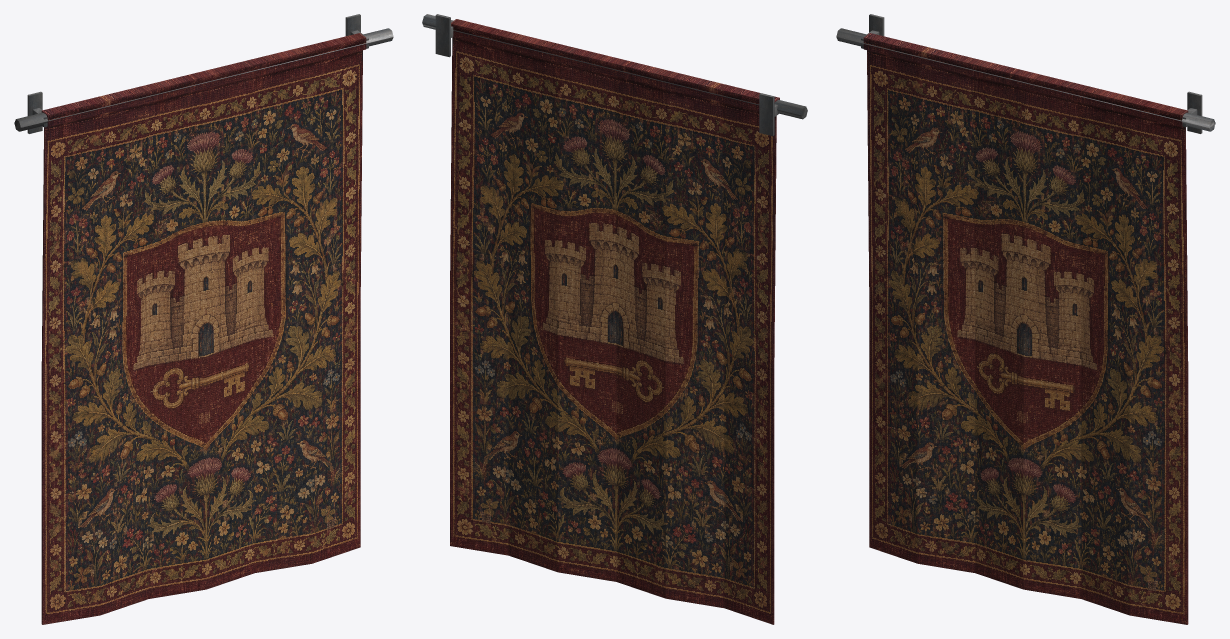
Rendered from level_castle_tapestry.glb.
The picture shows the model from 3 angles, left to right: view 1: azimuth 30°, elevation 25°; view 2: azimuth 150°, elevation 25°; view 3: azimuth 330°, elevation 25°; orthographic projection.
Visible parts, largest first — view 1: Continuous reinforced hanging with shallow folds; view 2: Continuous reinforced hanging with shallow folds; view 3: Continuous reinforced hanging with shallow folds.
Part boxes in pixels (x1,y1,x2,y2): Continuous reinforced hanging with shallow folds: [14, 14, 393, 624]; Continuous reinforced hanging with shallow folds: [422, 14, 807, 624]; Continuous reinforced hanging with shallow folds: [836, 14, 1215, 624].
Bounding box in the file's own units: 1.64 × 2.21 × 0.105.
2 materials, 2 textured.
